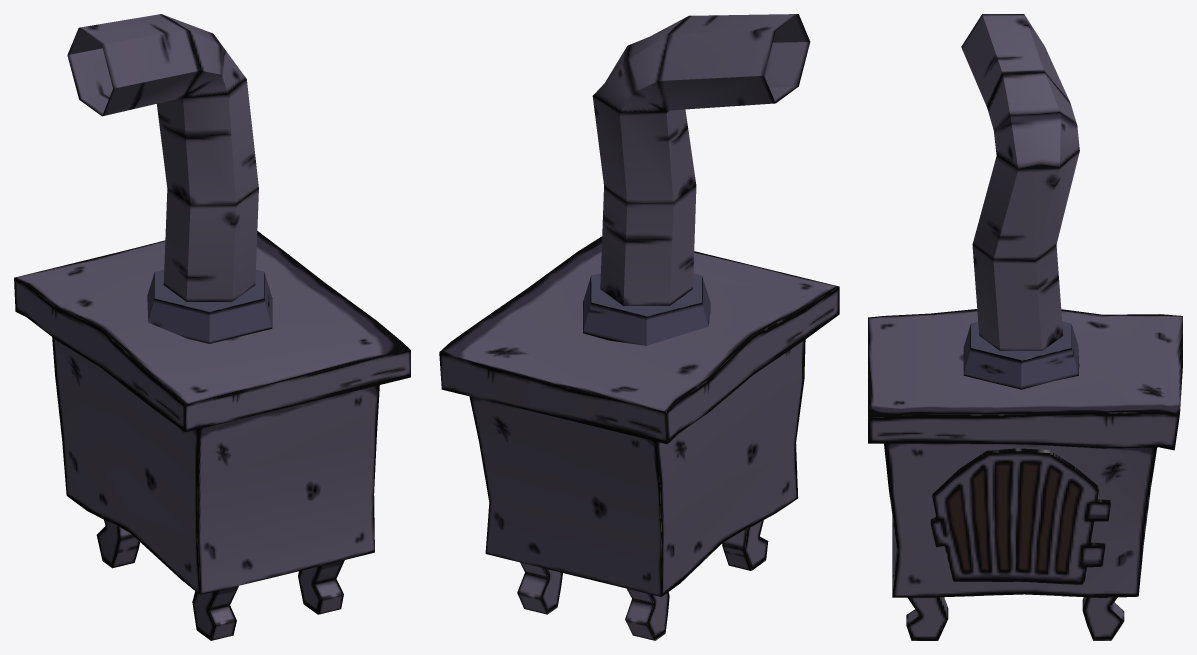
File: piec_koza_wył.fbx
The picture shows the model from 3 angles, left to right: view 1: azimuth 30°, elevation 25°; view 2: azimuth 150°, elevation 25°; view 3: azimuth 270°, elevation 25°; orthographic projection. The views are drawn at different scales.
Parts seen in each view (by area): view 1: piec koza wył; view 2: piec koza wył; view 3: piec koza wył.
Part boxes in pixels (left/top/right/bottom): piec koza wył: left=14, top=14, right=410, bottom=640; piec koza wył: left=439, top=14, right=839, bottom=640; piec koza wył: left=868, top=14, right=1182, bottom=640.
Bounding box in the file's own units: 105 × 236 × 125.
Materials: 1 (1 with a texture image).
